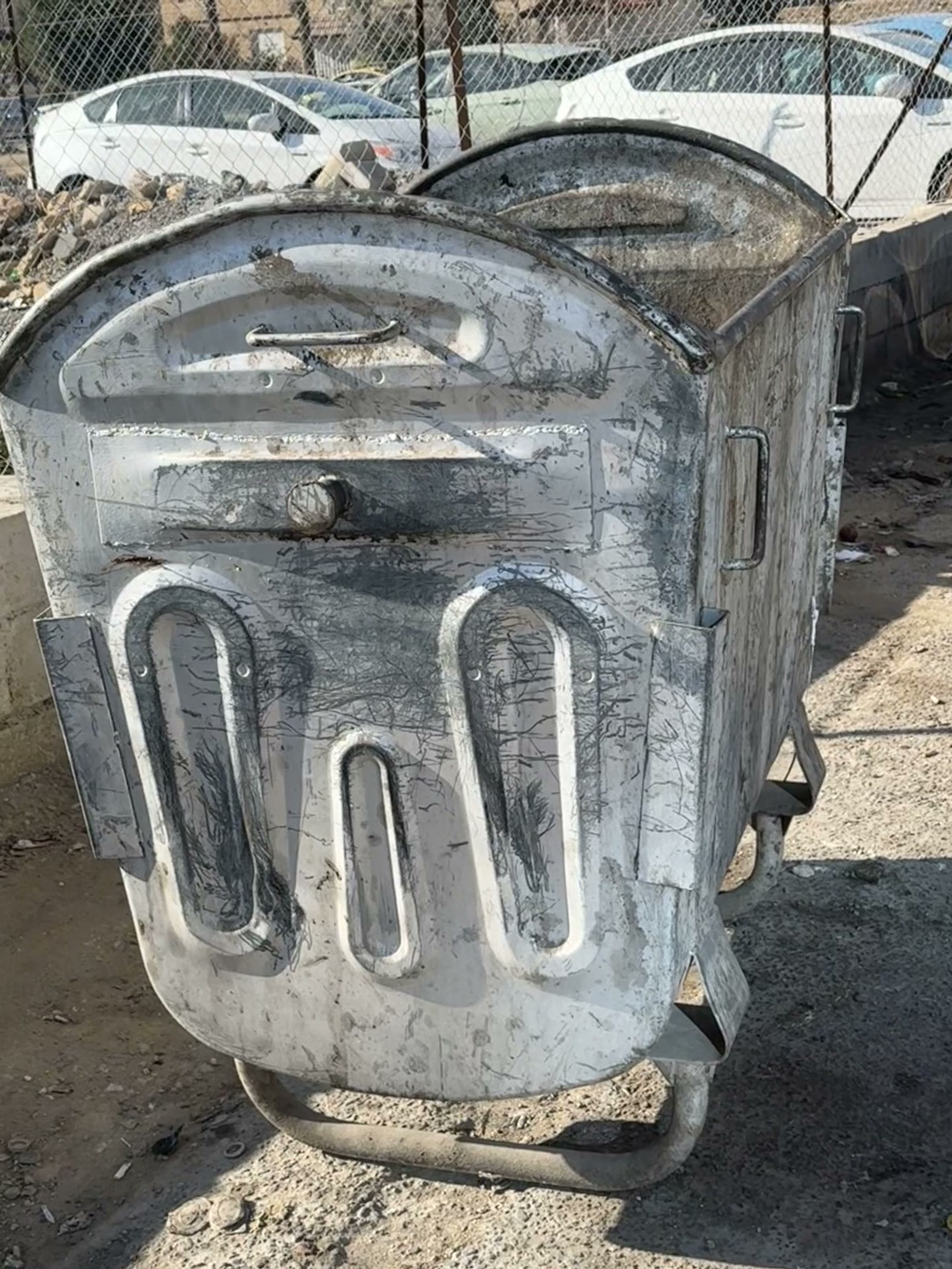trash_container: (13, 98, 835, 1203)
